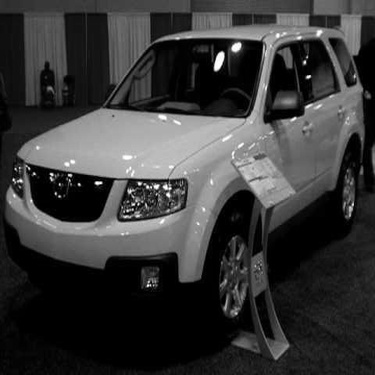car: (6, 11, 365, 316)
